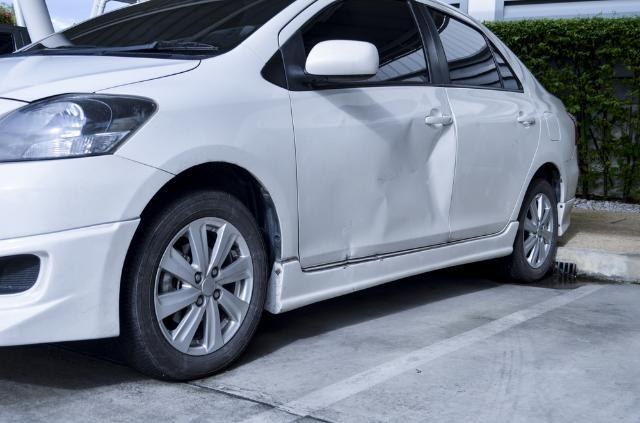dent: (311, 117, 454, 259)
